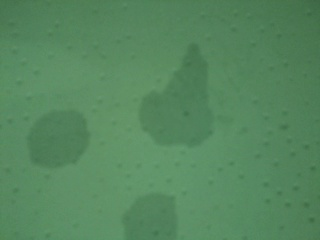Water_detected: (140, 60, 215, 131), (25, 111, 84, 170), (123, 195, 167, 240)
